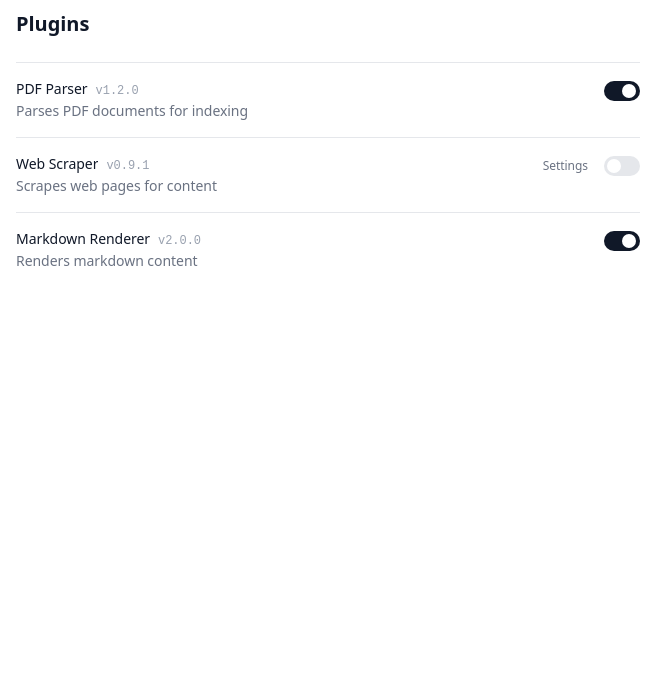
PluginsPage › collapses config form when Settings is clicked again
The width and height of the screenshot is (657, 681).
Expected: the heading "Web Scraper" is shown, [16,154,98,174]
Click the button with aria-label "settings for web scraper" at (565, 166), box [543,158,588,174]
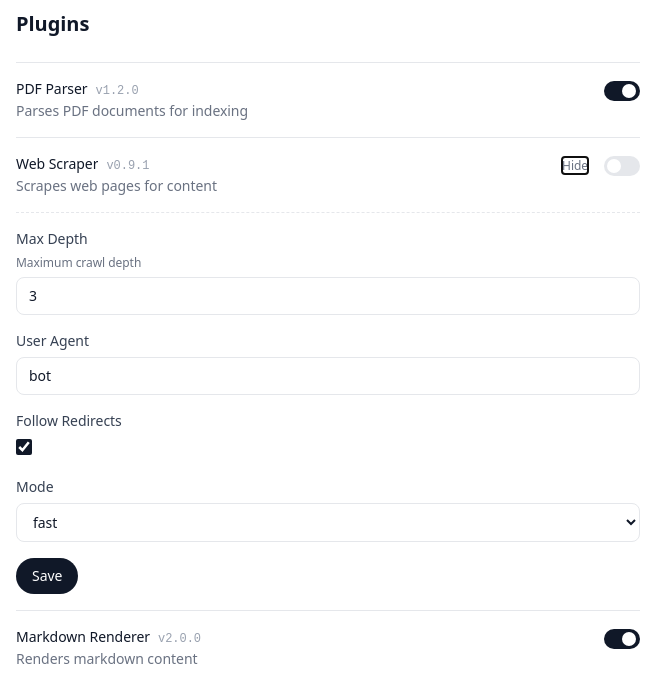
Expected: the number field labelled "Max Depth" is shown, [16,277,640,315]
Click again to collapse
Click the button with aria-label "settings for web scraper" at (575, 166), box [562,158,588,174]
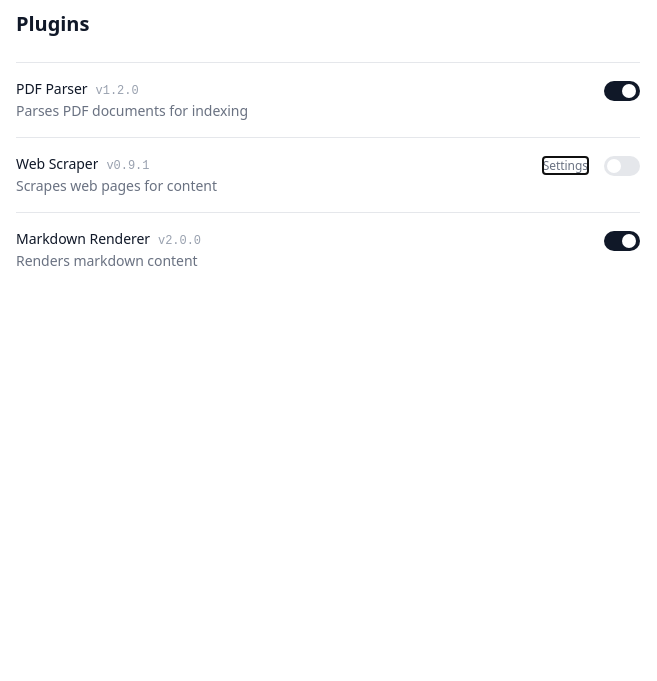
Expected: the label labelled "Max Depth" is gone
